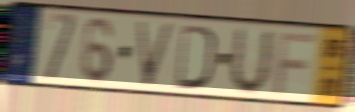6: (79, 16, 117, 86)
7: (45, 9, 77, 85)
D: (174, 22, 216, 92)
F: (272, 31, 318, 97)
U: (226, 25, 275, 97)
V: (133, 19, 178, 89)
